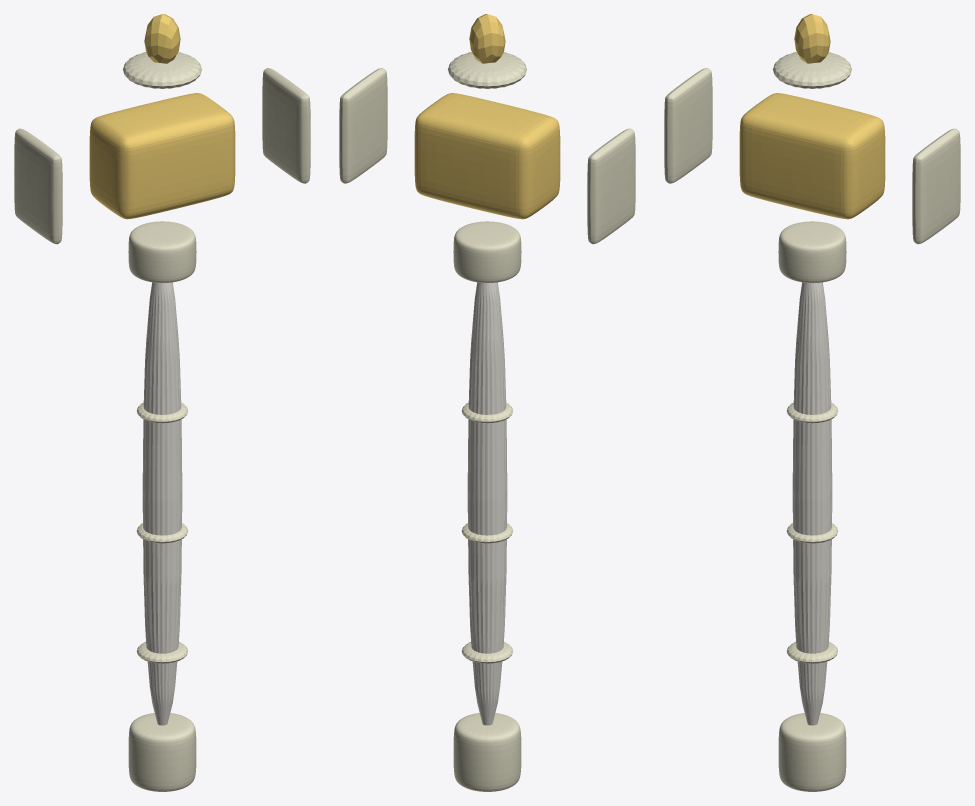
The model's file is SM_LW_ThunderHammer.fbx.
3 views of the same model, side by side, from view 1: azimuth 30°, elevation 25°; view 2: azimuth 150°, elevation 25°; view 3: azimuth 330°, elevation 25° (orthographic).
Parts seen in each view (by area): view 1: SM_LW_ThunderHammer_Head, SM_LW_ThunderHammer_Grip, SM_LW_ThunderHammer_Pommel, SM_LW_ThunderHammer_FaceL, SM_LW_ThunderHammer_FaceR, SM_LW_ThunderHammer_Collar, SM_LW_ThunderHammer_CrownBase, SM_LW_ThunderHammer, SM_LW_ThunderHammer_Crown; view 2: SM_LW_ThunderHammer_Head, SM_LW_ThunderHammer_Grip, SM_LW_ThunderHammer_Pommel, SM_LW_ThunderHammer_FaceL, SM_LW_ThunderHammer_FaceR, SM_LW_ThunderHammer_Collar, SM_LW_ThunderHammer_CrownBase, SM_LW_ThunderHammer, SM_LW_ThunderHammer_Crown; view 3: SM_LW_ThunderHammer_Head, SM_LW_ThunderHammer_Grip, SM_LW_ThunderHammer_Pommel, SM_LW_ThunderHammer_FaceR, SM_LW_ThunderHammer_FaceL, SM_LW_ThunderHammer_Collar, SM_LW_ThunderHammer_CrownBase, SM_LW_ThunderHammer, SM_LW_ThunderHammer_Crown.
Boxes of the visible parts, left/top/right/bottom form: SM_LW_ThunderHammer_Head: left=89, top=93, right=235, bottom=219; SM_LW_ThunderHammer_Grip: left=142, top=282, right=182, bottom=725; SM_LW_ThunderHammer_Pommel: left=128, top=713, right=196, bottom=791; SM_LW_ThunderHammer_FaceL: left=262, top=68, right=310, bottom=183; SM_LW_ThunderHammer_FaceR: left=14, top=128, right=62, bottom=244; SM_LW_ThunderHammer_Collar: left=128, top=221, right=196, bottom=282; SM_LW_ThunderHammer_CrownBase: left=123, top=52, right=201, bottom=88; SM_LW_ThunderHammer: left=136, top=403, right=188, bottom=663; SM_LW_ThunderHammer_Crown: left=144, top=14, right=180, bottom=63; SM_LW_ThunderHammer_Head: left=414, top=93, right=560, bottom=219; SM_LW_ThunderHammer_Grip: left=467, top=282, right=507, bottom=725; SM_LW_ThunderHammer_Pommel: left=453, top=713, right=521, bottom=791; SM_LW_ThunderHammer_FaceL: left=339, top=68, right=387, bottom=183; SM_LW_ThunderHammer_FaceR: left=587, top=128, right=635, bottom=244; SM_LW_ThunderHammer_Collar: left=453, top=221, right=521, bottom=282; SM_LW_ThunderHammer_CrownBase: left=448, top=52, right=526, bottom=88; SM_LW_ThunderHammer: left=461, top=403, right=513, bottom=663; SM_LW_ThunderHammer_Crown: left=469, top=14, right=505, bottom=63; SM_LW_ThunderHammer_Head: left=739, top=93, right=885, bottom=219; SM_LW_ThunderHammer_Grip: left=792, top=282, right=832, bottom=725; SM_LW_ThunderHammer_Pommel: left=778, top=713, right=846, bottom=791; SM_LW_ThunderHammer_FaceR: left=664, top=68, right=712, bottom=183; SM_LW_ThunderHammer_FaceL: left=912, top=128, right=960, bottom=244; SM_LW_ThunderHammer_Collar: left=778, top=221, right=846, bottom=282; SM_LW_ThunderHammer_CrownBase: left=773, top=52, right=851, bottom=88; SM_LW_ThunderHammer: left=786, top=403, right=838, bottom=663; SM_LW_ThunderHammer_Crown: left=794, top=14, right=830, bottom=63.
Bounding box in the file's own units: 0.5693 × 0.1593 × 1.61.
